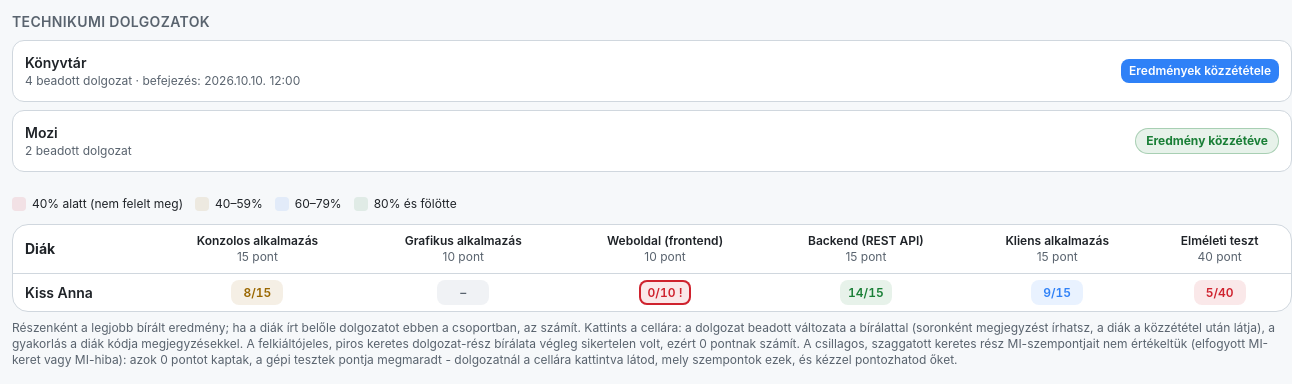
Test: VizsgareszTerkepComponent › közzététel: siker után „közzétéve”, a már közzétett dolgozatnál nincs gomb
expect the list item with test id "technikum-test-8" shows "Eredmény közzétéve": met, box [1146,133,1268,148]
Click the button "Eredmények közzététele": coordinates (1200, 71) [1121,59,1279,83]
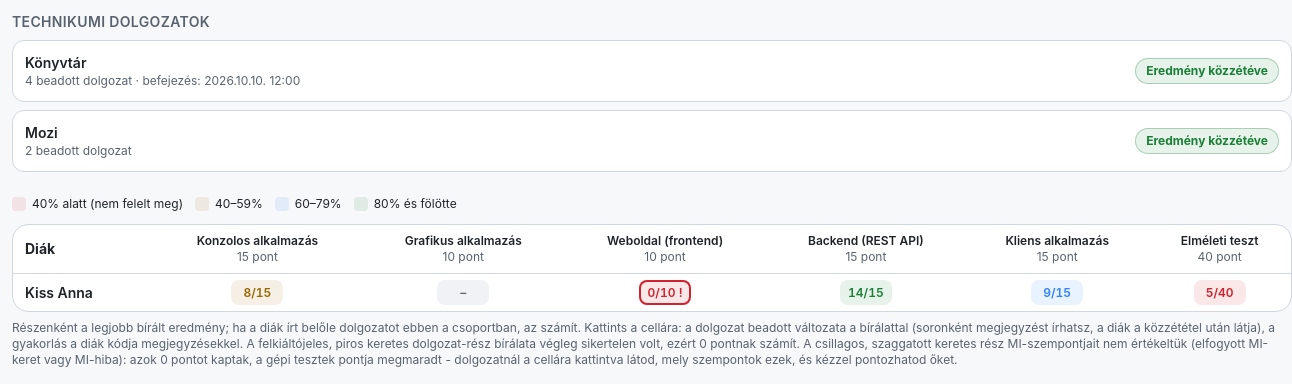
expect the list item with test id "technikum-test-7" shows "Eredmény közzétéve": met, box [1146,63,1268,78]
